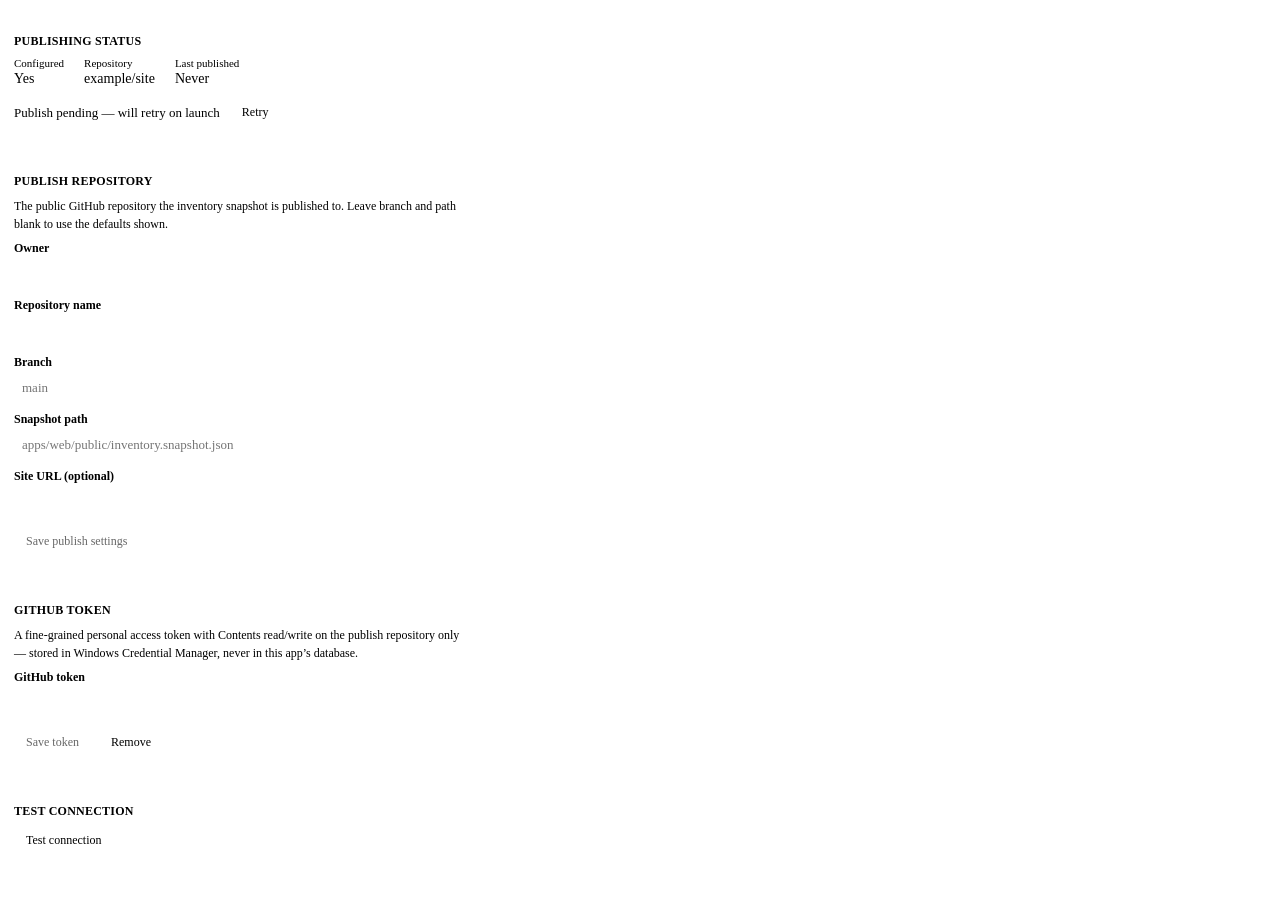
Test case: Retry › toasts the failure message and refetches status when the retry fails
Click the button "Retry".
click(255, 112)  # box [230, 99, 280, 126]
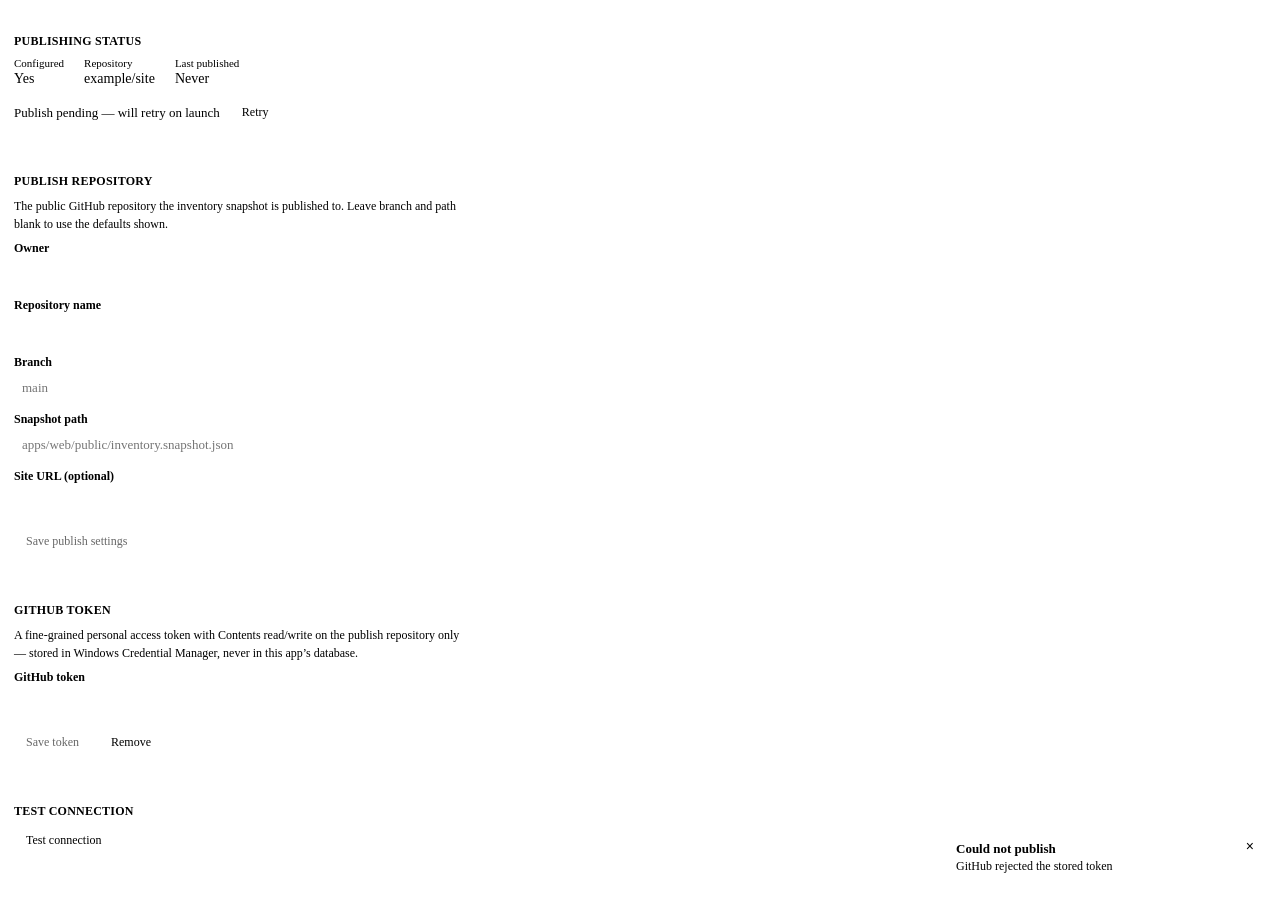
Expected: the text "Could not publish" is shown, [956, 841, 1056, 856]
Expected: the text "GitHub rejected the stored token" is shown, [956, 859, 1113, 873]
